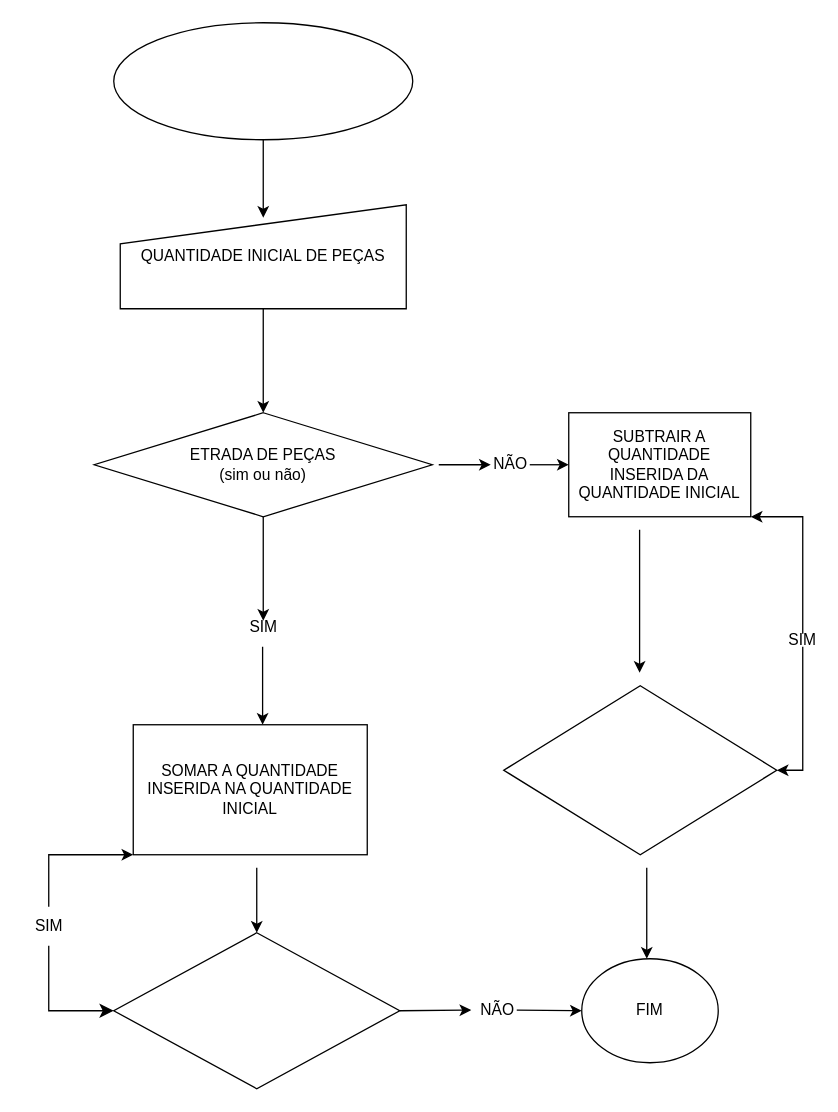
The diagram is 838 pixels wide and 1112 high, and some of its shapes have lost their labels. Here are the shapes that lost their labels. From the top down, the centre of each, then its label:
point 262,80: INÍCIO
point 639,769: DESEJA SUBTRAIR MAIS PEÇAS?
point 256,1010: DESEJA ADICIONAR MAIS PEÇAS?
